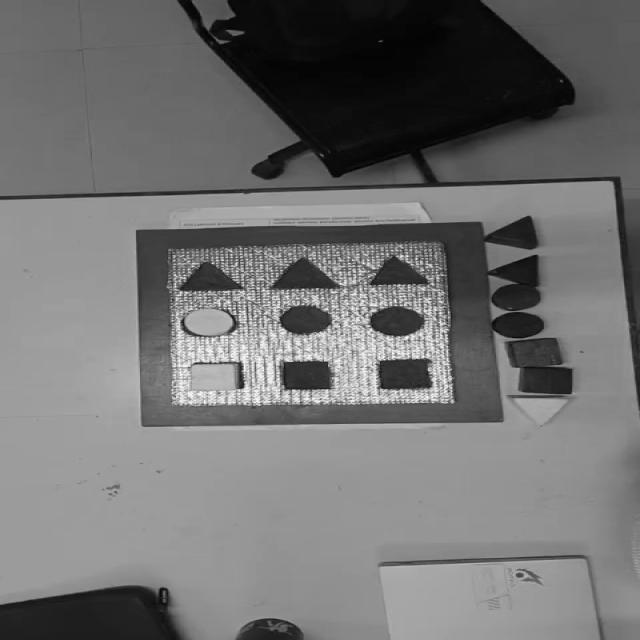bcircle: (491, 312, 545, 338)
btriangle: (488, 254, 540, 286)
mtcircle: (369, 306, 425, 336), (279, 305, 332, 334)
mtcube: (377, 358, 434, 390), (281, 360, 334, 390)
mttriangle: (269, 255, 341, 290), (366, 254, 430, 286), (179, 261, 245, 291)
rcircle: (491, 283, 542, 311)
rcube: (504, 337, 563, 368), (518, 366, 574, 395)
rtriangle: (484, 215, 539, 250)
wb: (164, 241, 454, 408)
ycube: (181, 307, 236, 337), (186, 362, 238, 392)
ytriangle: (507, 395, 571, 426)
